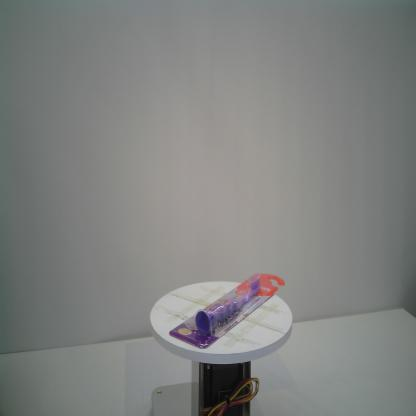Personal Hygiene: (169, 272, 286, 350)
